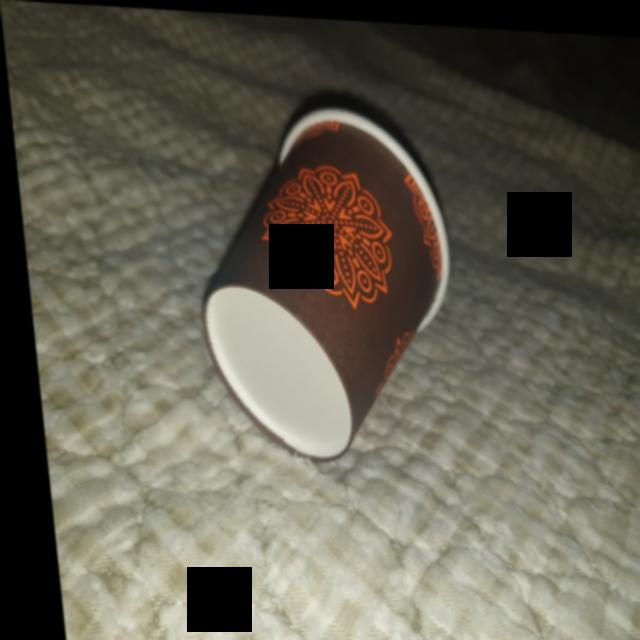cups: (171, 84, 466, 471)
